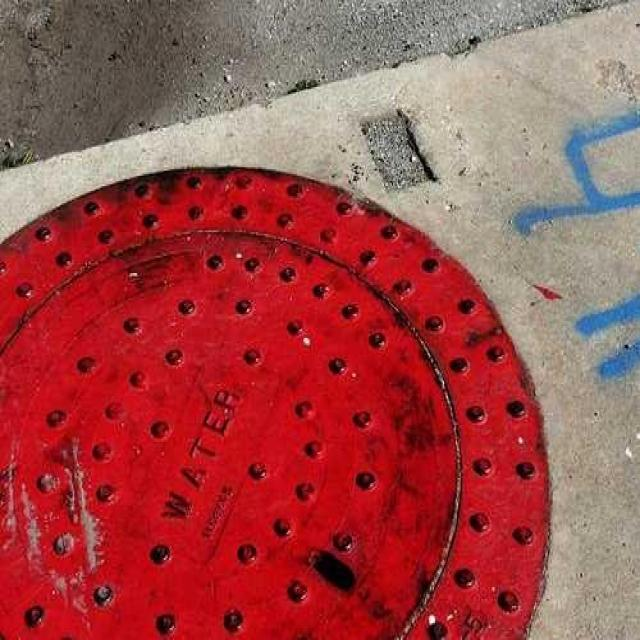manhole: (0, 168, 549, 637)
